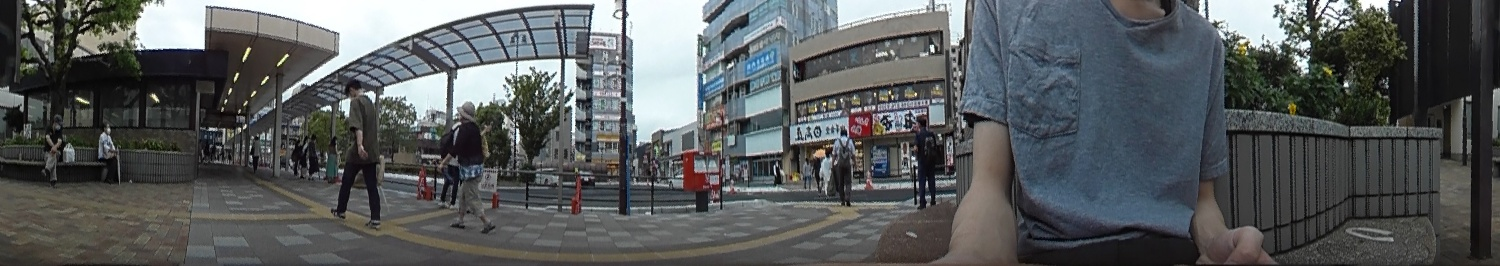difficult_person: (437, 114, 460, 201), (325, 133, 340, 184), (820, 147, 835, 195), (300, 132, 311, 171), (250, 135, 262, 168), (802, 156, 813, 188), (309, 135, 317, 178), (290, 138, 301, 169), (771, 161, 784, 187), (201, 143, 211, 166)
person: (334, 78, 386, 227), (452, 99, 487, 228), (911, 112, 940, 209), (833, 122, 860, 207), (38, 107, 67, 182), (94, 120, 122, 187)
